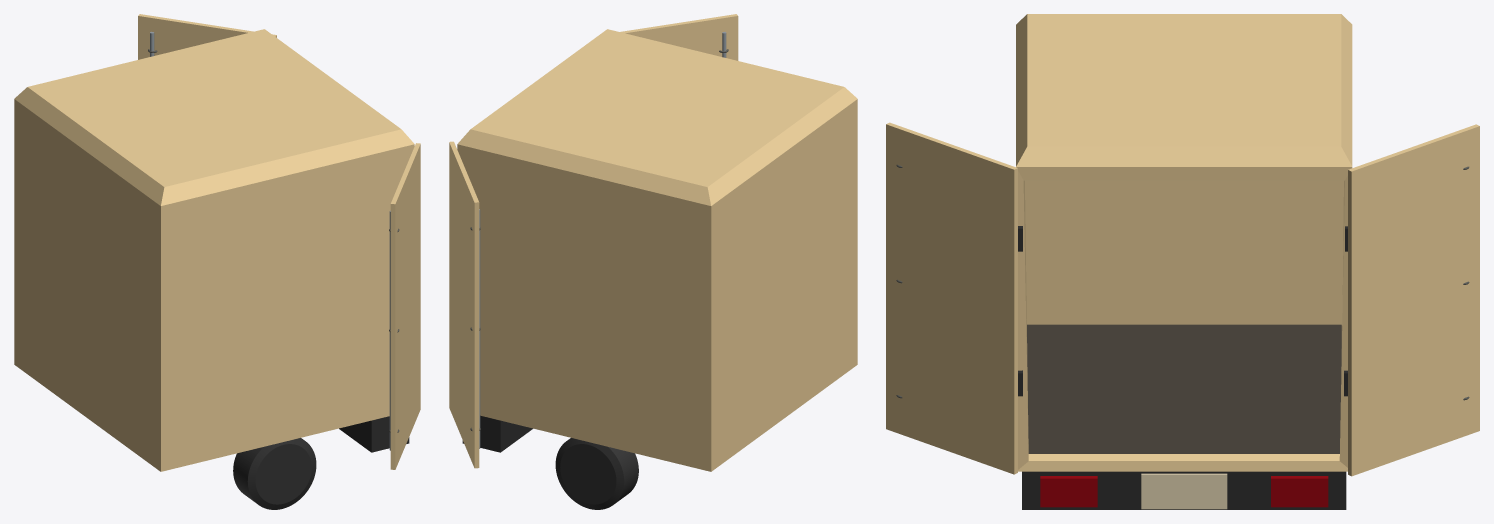
The model's file is truckRyulMade13.fbx.
3 views of the same model, side by side, from view 1: azimuth 30°, elevation 25°; view 2: azimuth 150°, elevation 25°; view 3: azimuth 270°, elevation 25° (orthographic). The views are drawn at different scales.
Parts seen in each view (by area): view 1: truckStorage, LeftDoor, wheel, RightDoor, Lamphead, doorHand; view 2: truckStorage, RightDoor, wheel.001, LeftDoor, Lamphead, doorHand.002; view 3: truckStorage, RightDoor, LeftDoor, Lamphead, numberZone, BackHeadLight, BackHeadLight.001.
Part boxes in pixels (x1,y1,x2,y2): truckStorage: [14, 29, 414, 471]; LeftDoor: [390, 143, 420, 469]; wheel: [233, 438, 316, 509]; RightDoor: [138, 14, 276, 59]; Lamphead: [339, 416, 409, 452]; doorHand: [389, 210, 390, 450]; truckStorage: [457, 29, 857, 471]; RightDoor: [449, 141, 479, 468]; wheel.001: [555, 438, 638, 509]; LeftDoor: [620, 14, 738, 60]; Lamphead: [462, 415, 532, 452]; doorHand.002: [479, 209, 480, 448]; truckStorage: [1016, 14, 1352, 471]; RightDoor: [1348, 124, 1479, 476]; LeftDoor: [886, 122, 1017, 474]; Lamphead: [1022, 471, 1346, 509]; numberZone: [1141, 473, 1227, 509]; BackHeadLight: [1040, 476, 1097, 507]; BackHeadLight.001: [1271, 476, 1328, 507].
Size of the model in its own units: 207 by 264 by 353.
